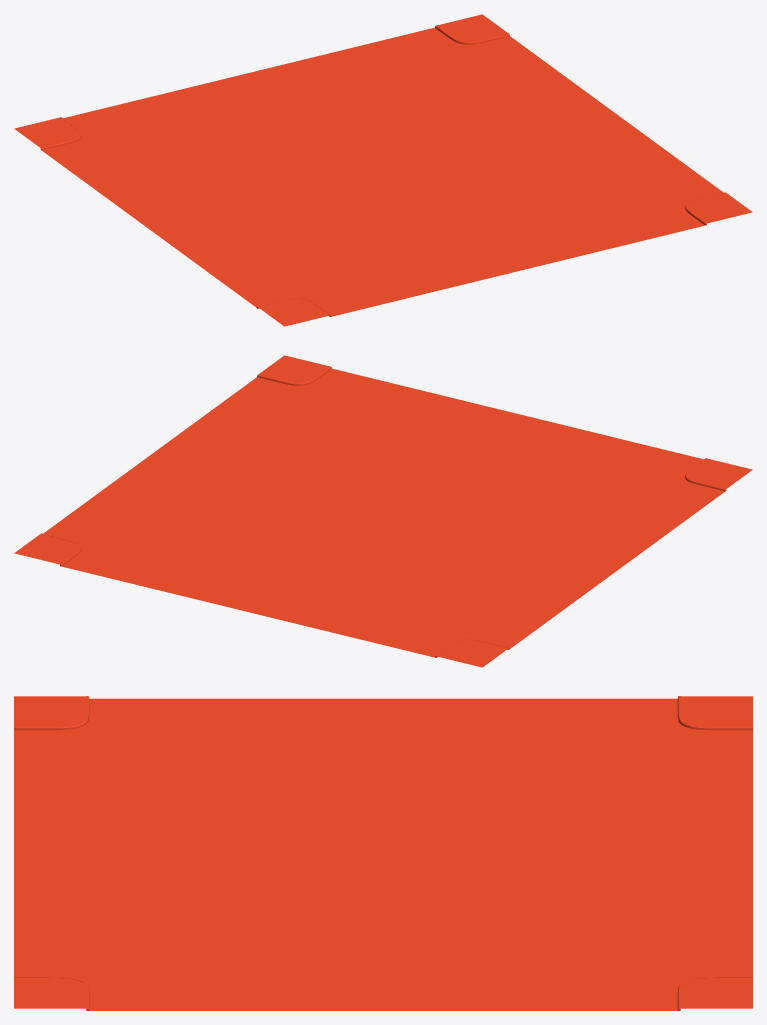
Rendered from SM_Freeway_Cross_30x30_City.fbx.
3 views of the same model, one above another, from view 1: azimuth 30°, elevation 25°; view 2: azimuth 150°, elevation 25°; view 3: azimuth 270°, elevation 25° (orthographic). The views are drawn at different scales.
Parts seen in each view (by area): view 1: SM_Freeway_Cross_30x30_City; view 2: SM_Freeway_Cross_30x30_City; view 3: SM_Freeway_Cross_30x30_City.
Part boxes in pixels (x1,y1,x2,y2): SM_Freeway_Cross_30x30_City: (14,14,752,326); SM_Freeway_Cross_30x30_City: (14,355,752,667); SM_Freeway_Cross_30x30_City: (14,696,752,1010).
Bounding box in the file's own units: 30 × 0.1084 × 30.
